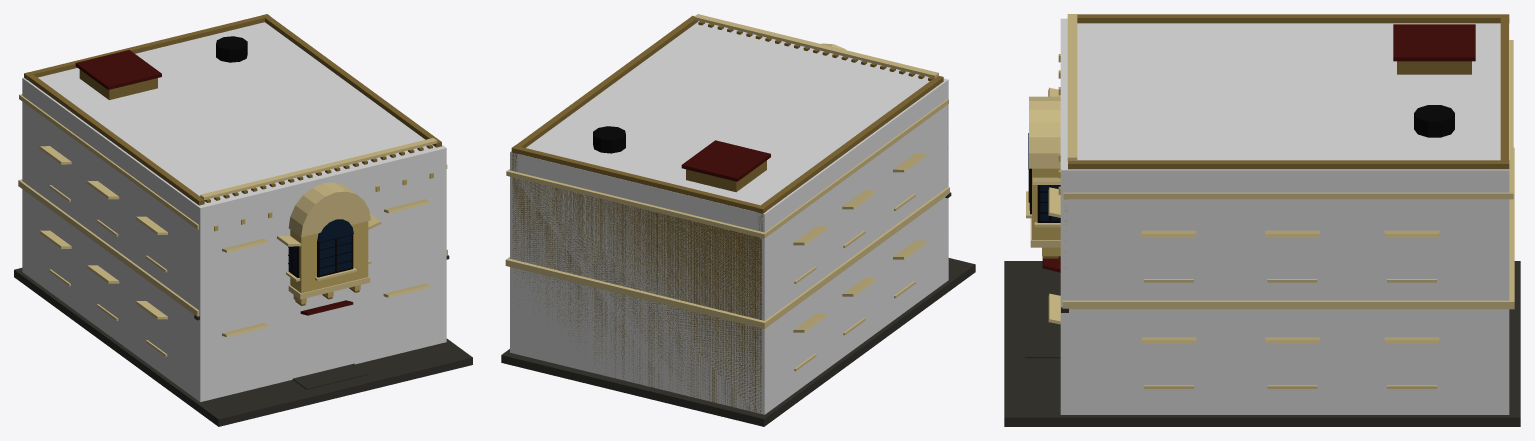
Rendered from B02_old_residential.glb.
The picture shows the model from 3 angles, left to right: view 1: azimuth 30°, elevation 25°; view 2: azimuth 150°, elevation 25°; view 3: azimuth 270°, elevation 25°; orthographic projection. The views are drawn at different scales.
Visible parts, largest first — view 1: COL_Main, LOD0; view 2: COL_Main, LOD0; view 3: COL_Main, LOD0.
Boxes of the visible parts, left/top/right/bottom form: COL_Main: left=22, top=22, right=446, bottom=401; LOD0: left=14, top=14, right=472, bottom=426; COL_Main: left=510, top=21, right=948, bottom=414; LOD0: left=501, top=14, right=975, bottom=426; COL_Main: left=1060, top=18, right=1509, bottom=414; LOD0: left=1004, top=14, right=1520, bottom=426.
Size of what is drawn, in the model's own units: 10.45 by 8.06 by 13.8.
